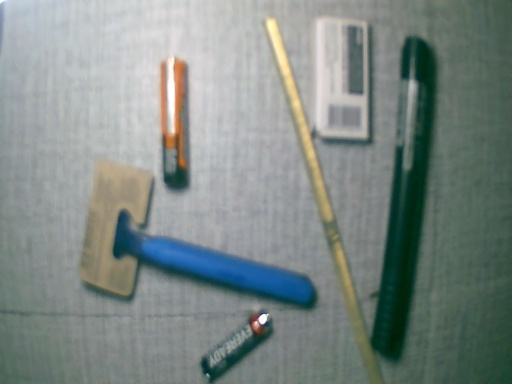metal: (197, 309, 276, 384), (158, 55, 189, 188)
trash: (86, 156, 319, 309), (372, 40, 436, 354), (313, 163, 387, 384), (308, 20, 373, 140), (263, 14, 312, 169)
